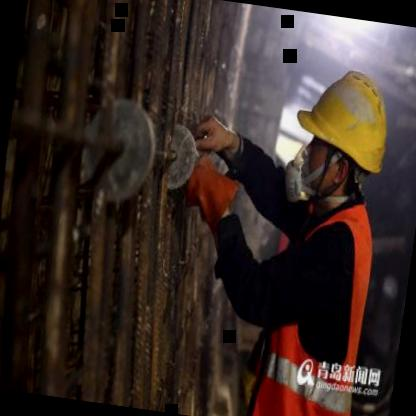helmet: (282, 44, 406, 221)
